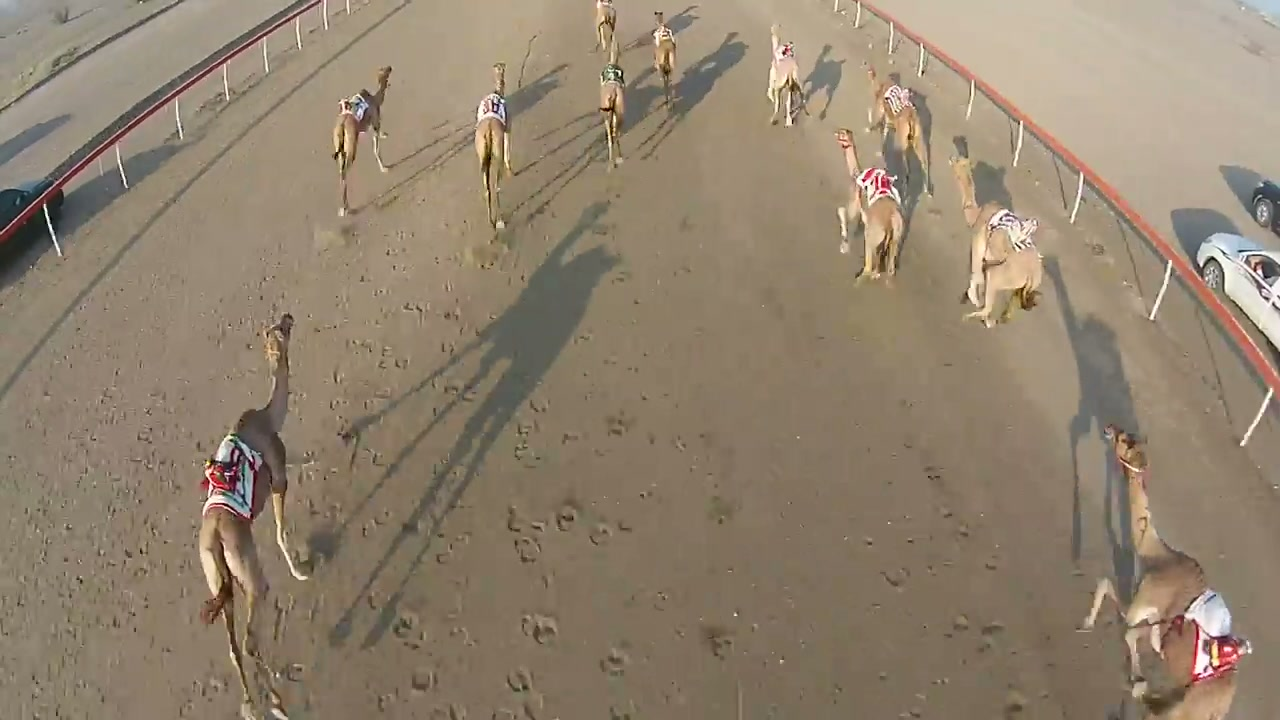animal_foot_print: (362, 478, 744, 719), (304, 229, 526, 615), (891, 457, 1055, 719)
